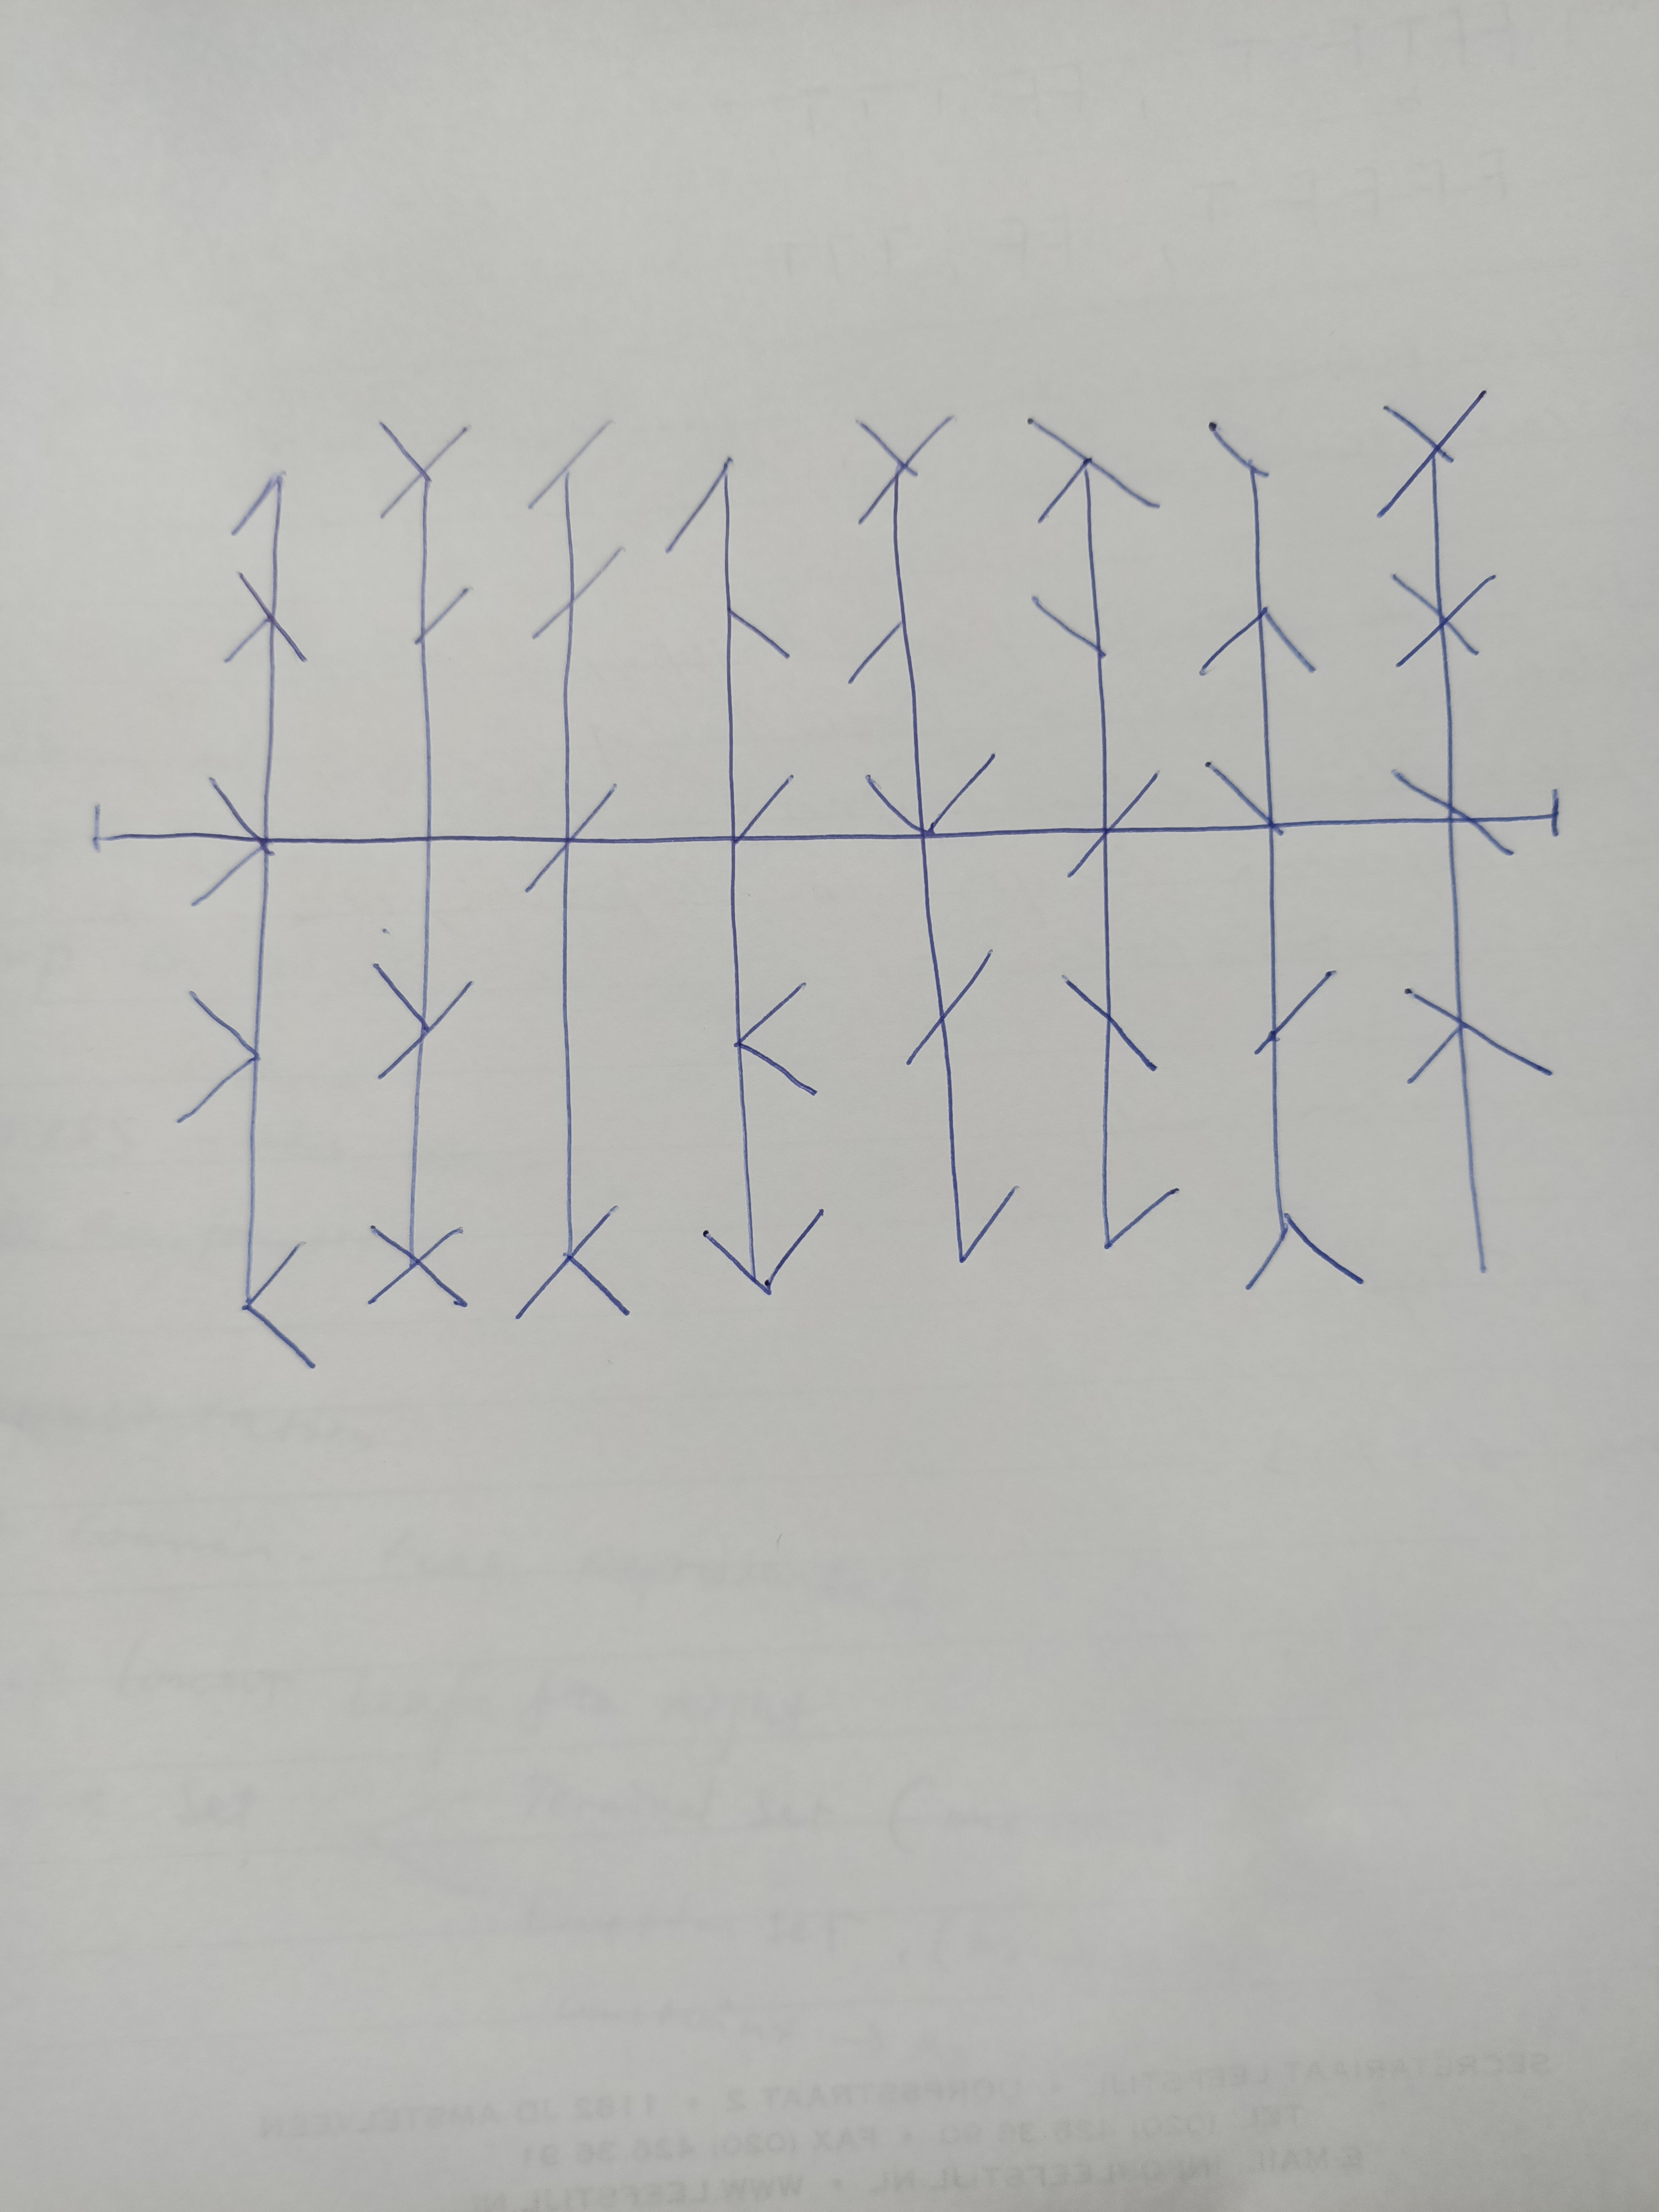Bar: (1373, 387, 1554, 1277), (1201, 423, 1366, 1285), (849, 415, 1016, 1263), (666, 455, 828, 1296), (173, 469, 321, 1369), (1023, 416, 1180, 1247), (514, 416, 634, 1318), (373, 423, 471, 1310)
Barcode: (89, 387, 1561, 1367)
End: (1495, 784, 1561, 840)
Start: (87, 805, 223, 852)
